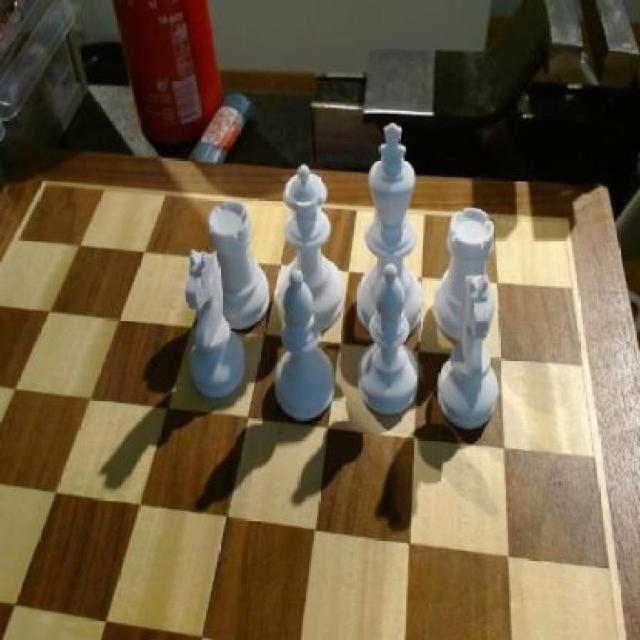black-rook: (271, 270, 337, 422), (360, 261, 423, 414)
white-bishop: (360, 120, 425, 332)
white-king: (434, 272, 501, 433), (185, 245, 249, 399)
white-pawn: (280, 165, 346, 328)
white-queen: (432, 204, 498, 340), (206, 199, 273, 323)
